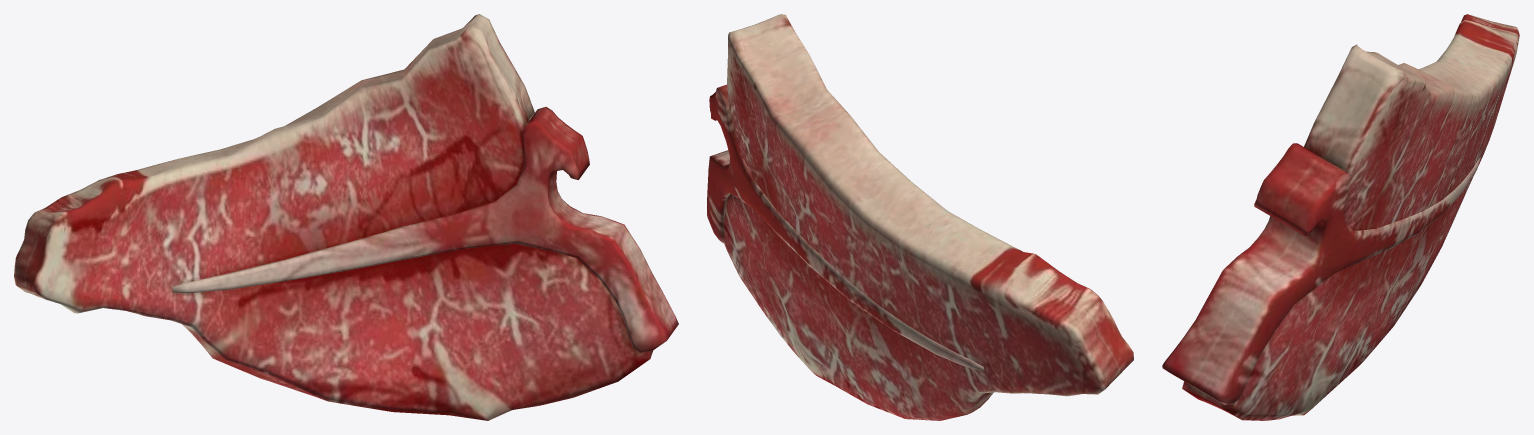
File: item-meat.glb
3 renders of one model, left to right at view 1: azimuth 30°, elevation 25°; view 2: azimuth 150°, elevation 25°; view 3: azimuth 270°, elevation 25°, orthographic. The views are drawn at different scales.
Visible parts, largest first — view 1: Meat; view 2: Meat; view 3: Meat.
Part boxes in pixels (<box>): Meat: <box>14,14,678,420</box>; Meat: <box>707,14,1133,420</box>; Meat: <box>1162,14,1519,420</box>.
Size of the model in its own units: 56.84 by 37.86 by 32.81.
1 material, 1 textured.
